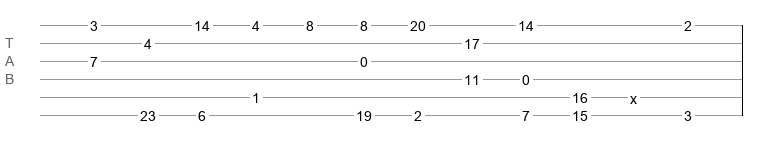0: (360, 54, 368, 64), (522, 72, 530, 82)
1: (252, 90, 260, 100)
11: (464, 72, 480, 82)
14: (194, 18, 210, 28), (518, 18, 534, 28)
15: (572, 108, 588, 118)
16: (572, 90, 588, 100)
17: (464, 36, 480, 46)
19: (356, 108, 372, 118)
2: (414, 108, 422, 118), (684, 18, 692, 28)
20: (410, 18, 426, 28)
23: (140, 108, 156, 118)
3: (90, 18, 98, 28), (684, 108, 692, 118)
4: (144, 36, 152, 46), (252, 18, 260, 28)
6: (198, 108, 206, 118)
7: (90, 54, 98, 64), (522, 108, 530, 118)
8: (306, 18, 314, 28), (360, 18, 368, 28)
x: (630, 91, 637, 99)
